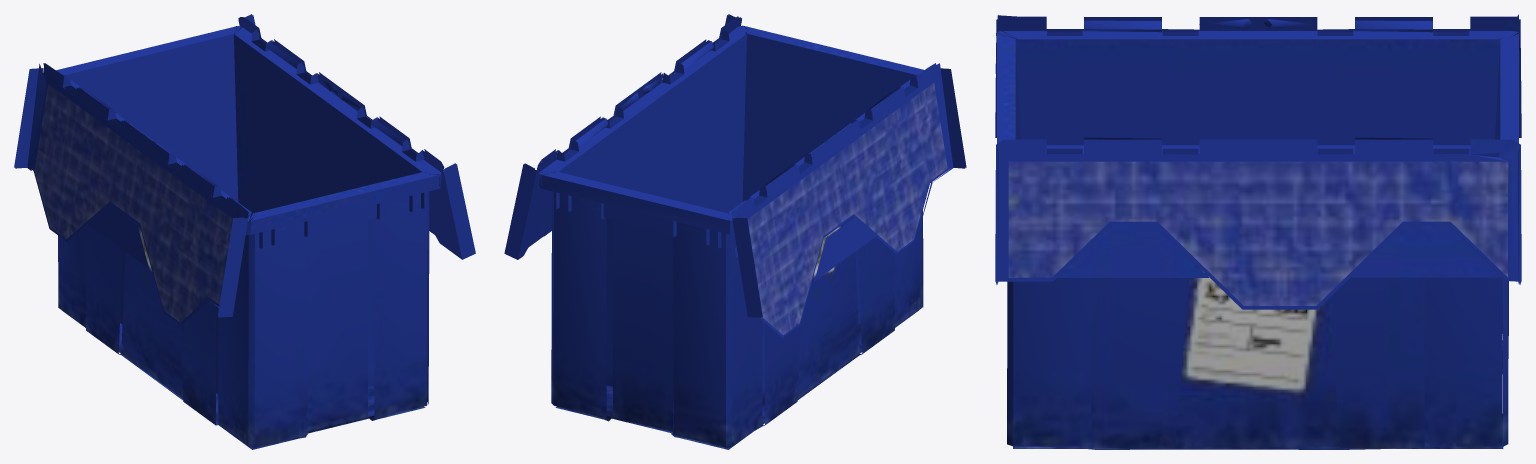
The model's file is ph_industrial_pastic_container.glb.
3 renders of one model, left to right at view 1: azimuth 30°, elevation 25°; view 2: azimuth 150°, elevation 25°; view 3: azimuth 270°, elevation 25°, orthographic. The views are drawn at different scales.
Visible parts, largest first — view 1: industrial_pastic_container; view 2: industrial_pastic_container; view 3: industrial_pastic_container.
Boxes of the visible parts, <box> form: industrial_pastic_container: <box>14,14,475,449</box>; industrial_pastic_container: <box>504,14,966,449</box>; industrial_pastic_container: <box>995,14,1521,449</box>.
Bounding box in the file's own units: 0.4572 × 0.4197 × 0.6314.
1 material, 1 textured.
